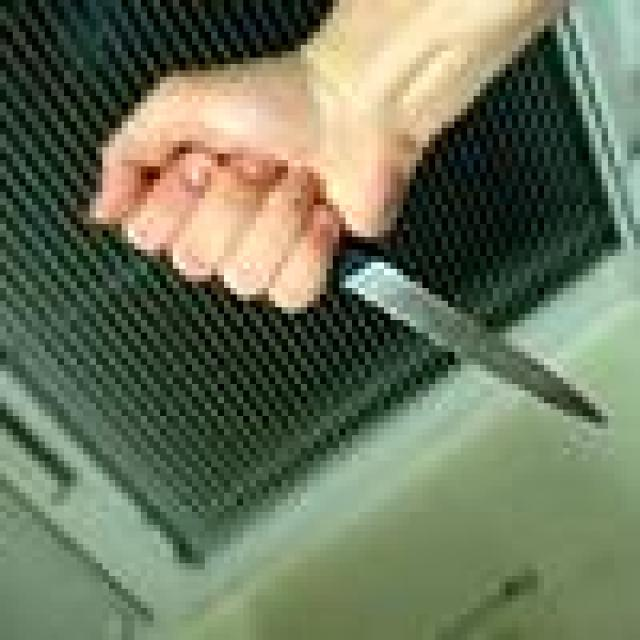knife: (342, 250, 598, 423)
